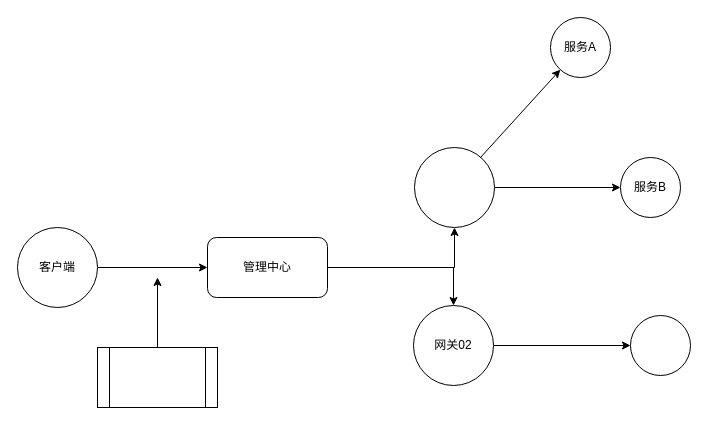
Some shapes in this 708 by 425 pixel diagram are drawn without their labels. Here are the shapes that lost their labels. From the top down, the centre of each, then its label:
At pixel 454 187: "网关01".
At pixel 660 345: "服务C".
At pixel 157 377: "加密udp包敲门， 客户端信息".
